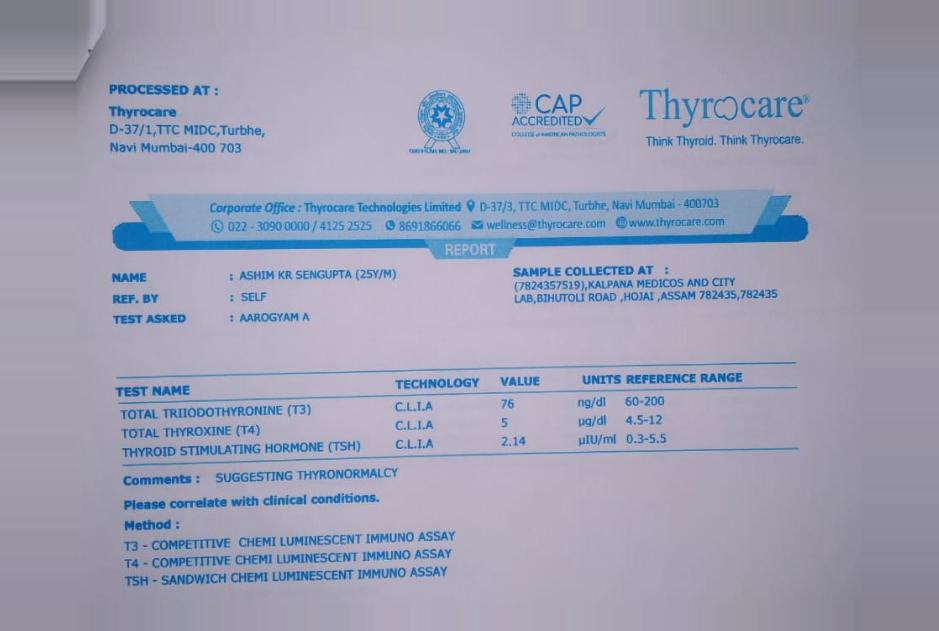Reference Range: (621, 388, 677, 452)
Test Name: (114, 400, 367, 464)
Units: (572, 390, 622, 452)
Value: (492, 391, 536, 455)
